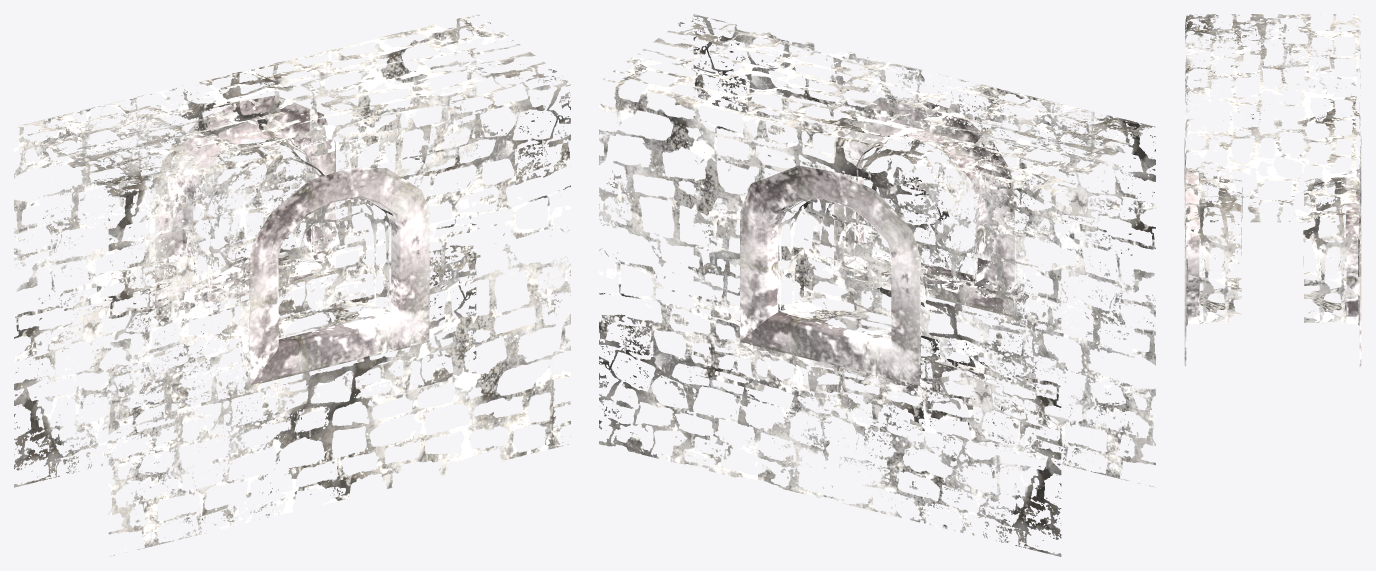
File: SM_fence_03_03.fbx
3 views of the same model, side by side, from view 1: azimuth 30°, elevation 25°; view 2: azimuth 150°, elevation 25°; view 3: azimuth 270°, elevation 25° (orthographic). The views are drawn at different scales.
Visible parts, largest first — view 1: SM_fence_03_03_LOD0; view 2: SM_fence_03_03_LOD0; view 3: SM_fence_03_03_LOD0.
Part boxes in pixels (x1=…): SM_fence_03_03_LOD0: x1=14, y1=14, x2=570, y2=556; SM_fence_03_03_LOD0: x1=599, y1=14, x2=1155, y2=556; SM_fence_03_03_LOD0: x1=1184, y1=14, x2=1361, y2=367.
Bounding box in the file's own units: 200 × 71.93 × 150.
Materials: 2 (2 with a texture image).
